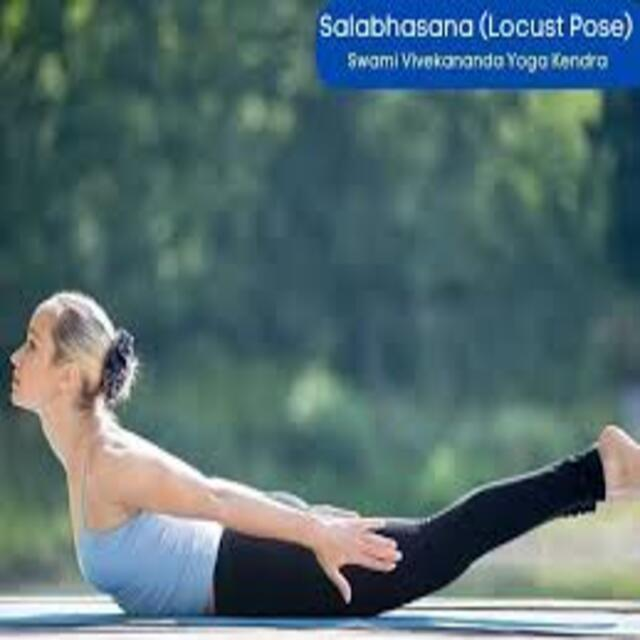Locust_Pose: (6, 290, 638, 624)
